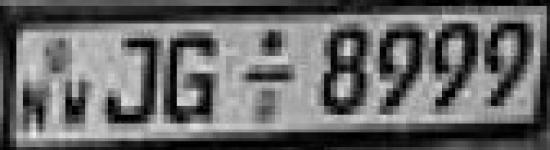-: (240, 59, 298, 86)
8: (314, 19, 374, 122)
9: (480, 16, 537, 116), (375, 19, 430, 121), (430, 17, 481, 120)
G: (163, 28, 223, 129)
J: (102, 32, 163, 129)
N: (21, 73, 56, 137)
W: (58, 72, 95, 132)
